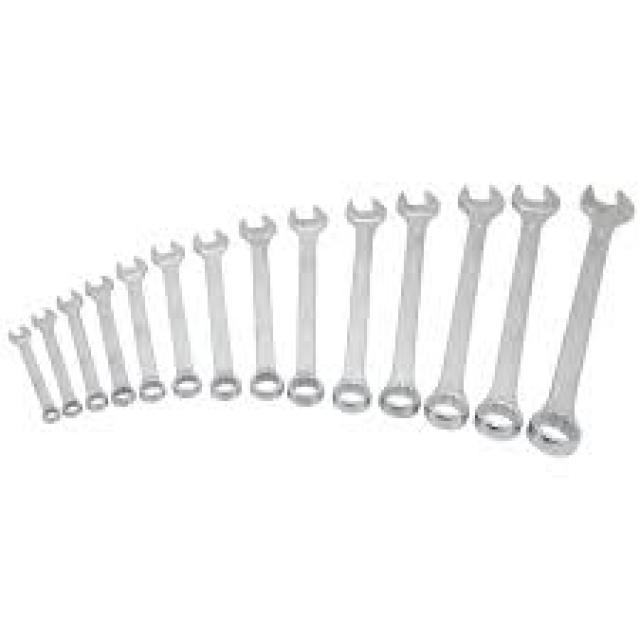wrench: (524, 182, 636, 461), (474, 178, 564, 447), (423, 178, 512, 437), (377, 180, 443, 422), (326, 191, 389, 420), (284, 198, 330, 412), (190, 222, 244, 404), (234, 210, 284, 403), (146, 235, 202, 402), (109, 249, 167, 409), (80, 270, 139, 412), (54, 284, 110, 414), (26, 304, 84, 422), (6, 319, 62, 426)
